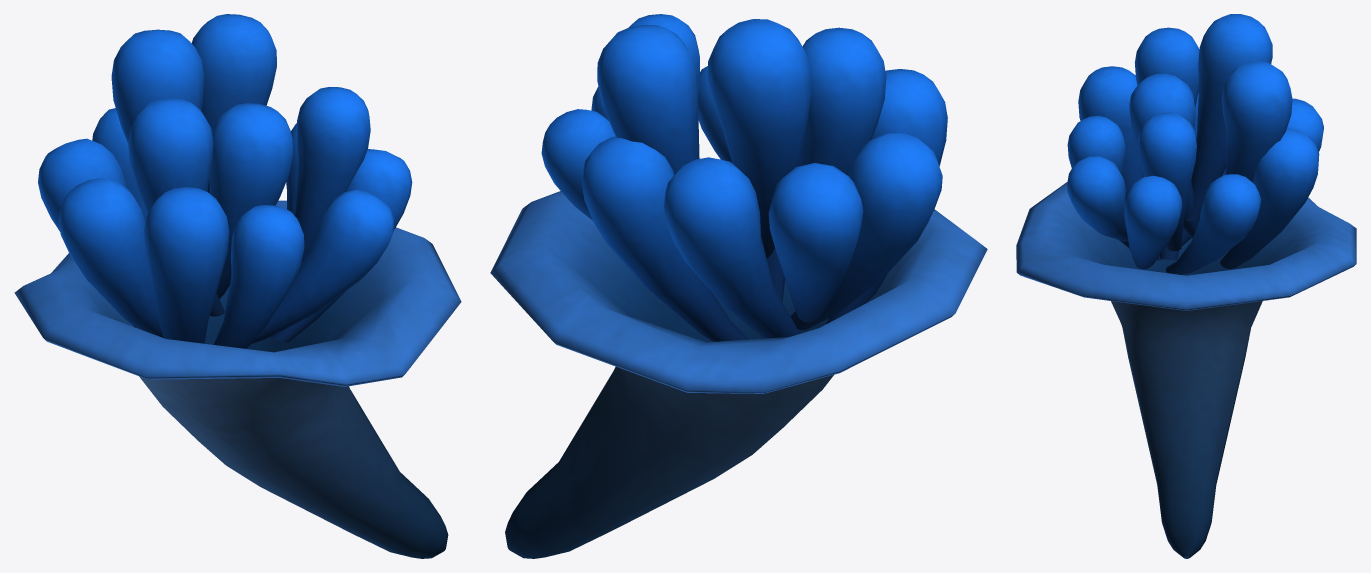
File: Cartoon Seaweed_13-2-8.fbx
3 renders of one model, left to right at view 1: azimuth 30°, elevation 25°; view 2: azimuth 150°, elevation 25°; view 3: azimuth 270°, elevation 25°, orthographic. The views are drawn at different scales.
Parts seen in each view (by area): view 1: Cartoon Seaweed_13.2.8; view 2: Cartoon Seaweed_13.2.8; view 3: Cartoon Seaweed_13.2.8.
Part boxes in pixels (x1,y1,x2,y2): Cartoon Seaweed_13.2.8: [14, 14, 461, 558]; Cartoon Seaweed_13.2.8: [490, 14, 987, 558]; Cartoon Seaweed_13.2.8: [1016, 14, 1356, 558].
Bounding box in the file's own units: 20.86 × 27.65 × 19.24.
Materials: 1 (1 with a texture image).
